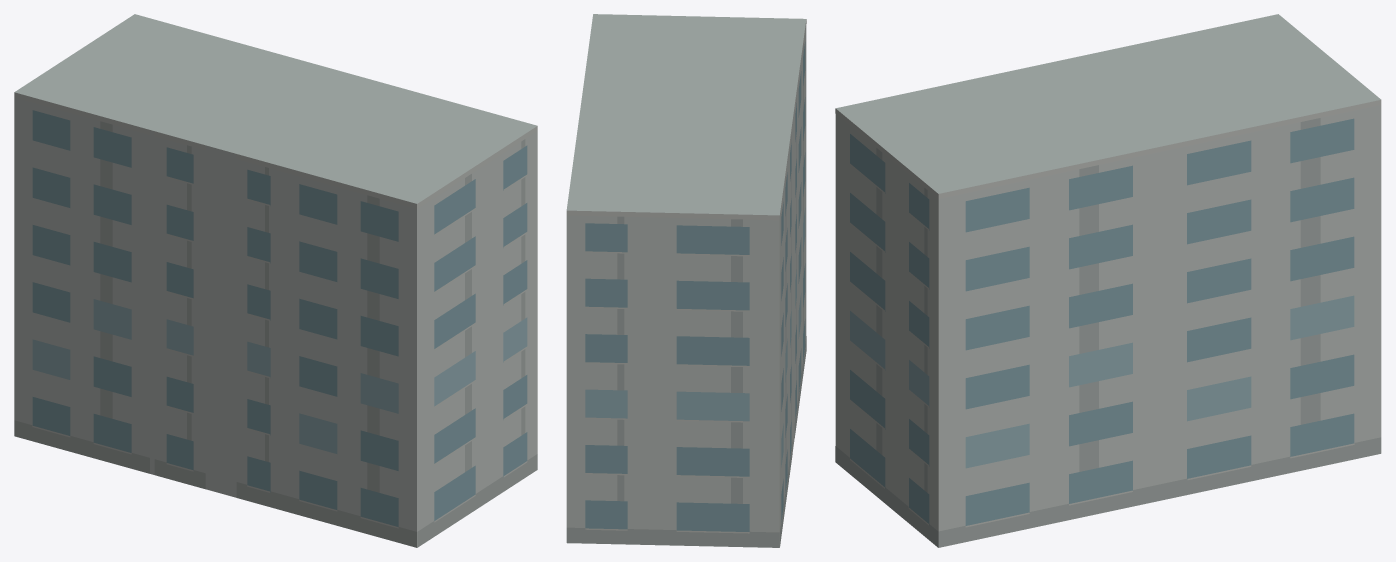
File: survey-upis-32701883.glb
3 views of the same model, side by side, from view 1: azimuth 30°, elevation 25°; view 2: azimuth 150°, elevation 25°; view 3: azimuth 270°, elevation 25° (orthographic). The views are drawn at different scales.
Parts seen in each view (by area): view 1: survey-upis-32701883.tmp; view 2: survey-upis-32701883.tmp; view 3: survey-upis-32701883.tmp.
Boxes of the visible parts, x1,y1,x2,y2 form: survey-upis-32701883.tmp: (14, 14, 537, 547); survey-upis-32701883.tmp: (566, 14, 806, 547); survey-upis-32701883.tmp: (835, 14, 1381, 547).
Size of the model in its own units: 17.99 by 16.5 by 23.07.
